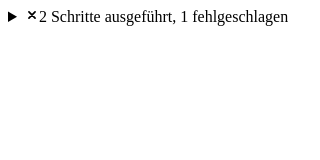
Test case: ActivityLog › sums up a finished turn and expands to the steps in order
The width and height of the screenshot is (320, 160).
Click the heading "2 Schritte ausgeführt, 1 fehlgeschlagen".
click(157, 16)  # box [25,8,288,25]
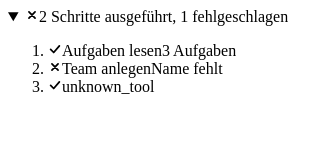
Expected: the list item "Aufgaben lesen3 Aufgaben" is shown, [48,42,236,59]
Expected: the 2nd list item shows "Name fehlt", [151,60,223,77]
Expected: the list item "unknown_tool" is shown, [48,78,154,95]
